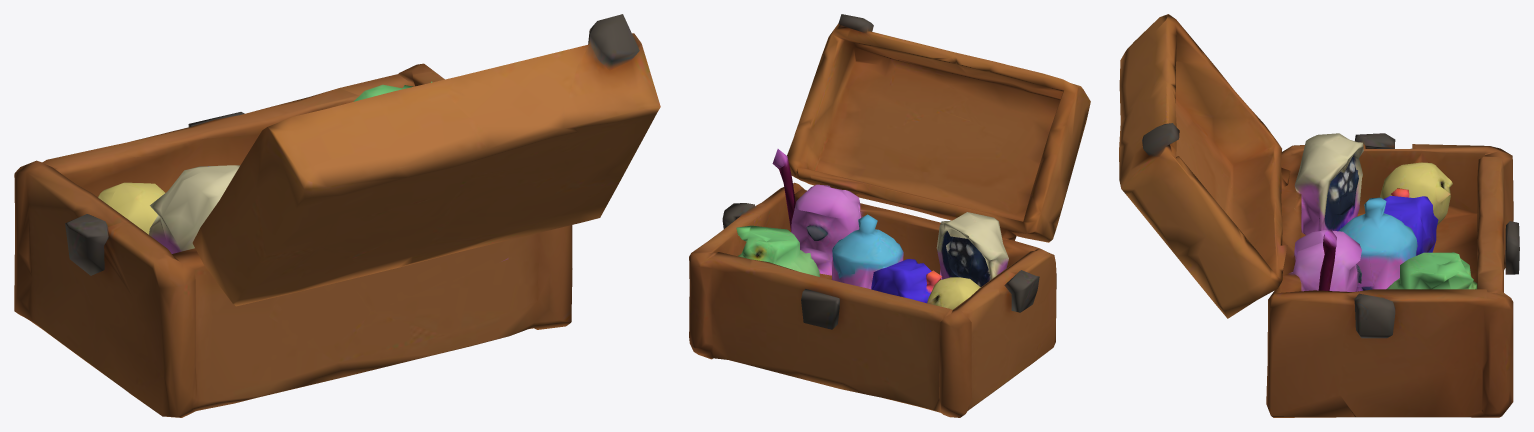
Rendered from toy-box.glb.
3 views of the same model, side by side, from view 1: azimuth 30°, elevation 25°; view 2: azimuth 150°, elevation 25°; view 3: azimuth 270°, elevation 25° (orthographic). The views are drawn at different scales.
Parts seen in each view (by area): view 1: tripo_node_04b0e1d2-4c61-40c2-ab7c-21ef8ad15a80; view 2: tripo_node_04b0e1d2-4c61-40c2-ab7c-21ef8ad15a80; view 3: tripo_node_04b0e1d2-4c61-40c2-ab7c-21ef8ad15a80.
Part boxes in pixels (x1,y1,x2,y2): tripo_node_04b0e1d2-4c61-40c2-ab7c-21ef8ad15a80: (14, 14, 660, 417); tripo_node_04b0e1d2-4c61-40c2-ab7c-21ef8ad15a80: (689, 14, 1090, 417); tripo_node_04b0e1d2-4c61-40c2-ab7c-21ef8ad15a80: (1119, 14, 1519, 417).
Size of the model in its own units: 1 by 0.7593 by 0.967.
1 material, 1 textured.
